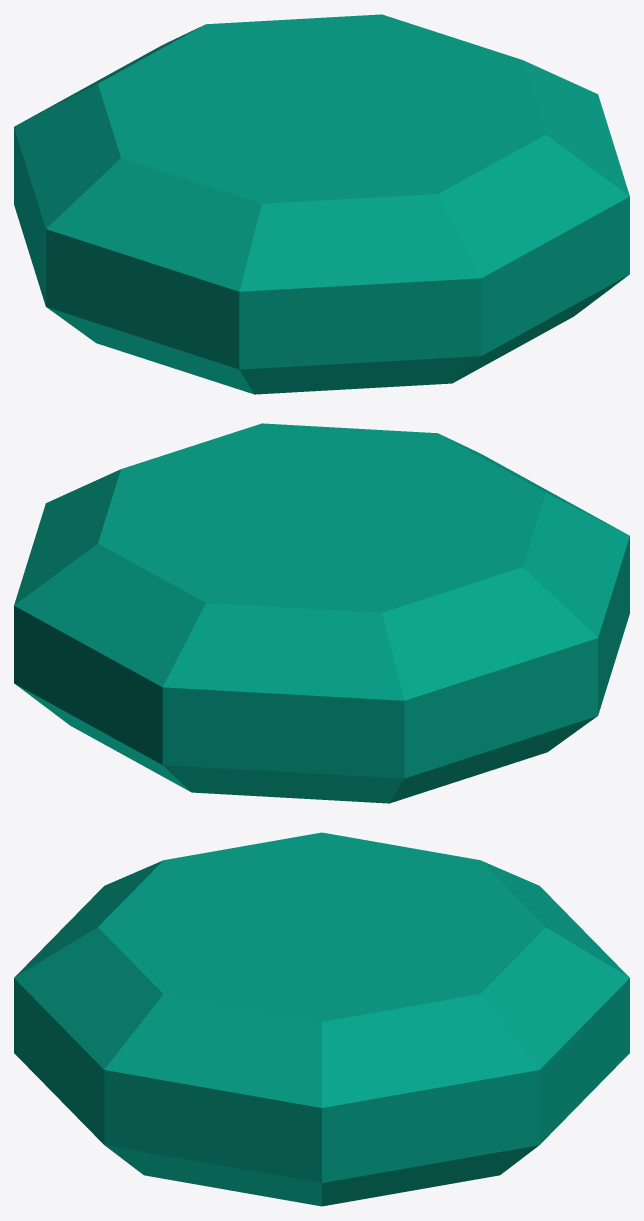
The model's file is Jem_09.fbx.
The picture shows the model from 3 angles, top to bottom: view 1: azimuth 30°, elevation 25°; view 2: azimuth 150°, elevation 25°; view 3: azimuth 270°, elevation 25°; orthographic projection. The views are drawn at different scales.
Visible parts, largest first — view 1: Jem_09; view 2: Jem_09; view 3: Jem_09.
Part boxes in pixels (x1=…): Jem_09: x1=14, y1=14, x2=629, y2=394; Jem_09: x1=14, y1=423, x2=629, y2=803; Jem_09: x1=14, y1=832, x2=629, y2=1206.
Bounding box in the file's own units: 39.3 × 12.18 × 39.3.
